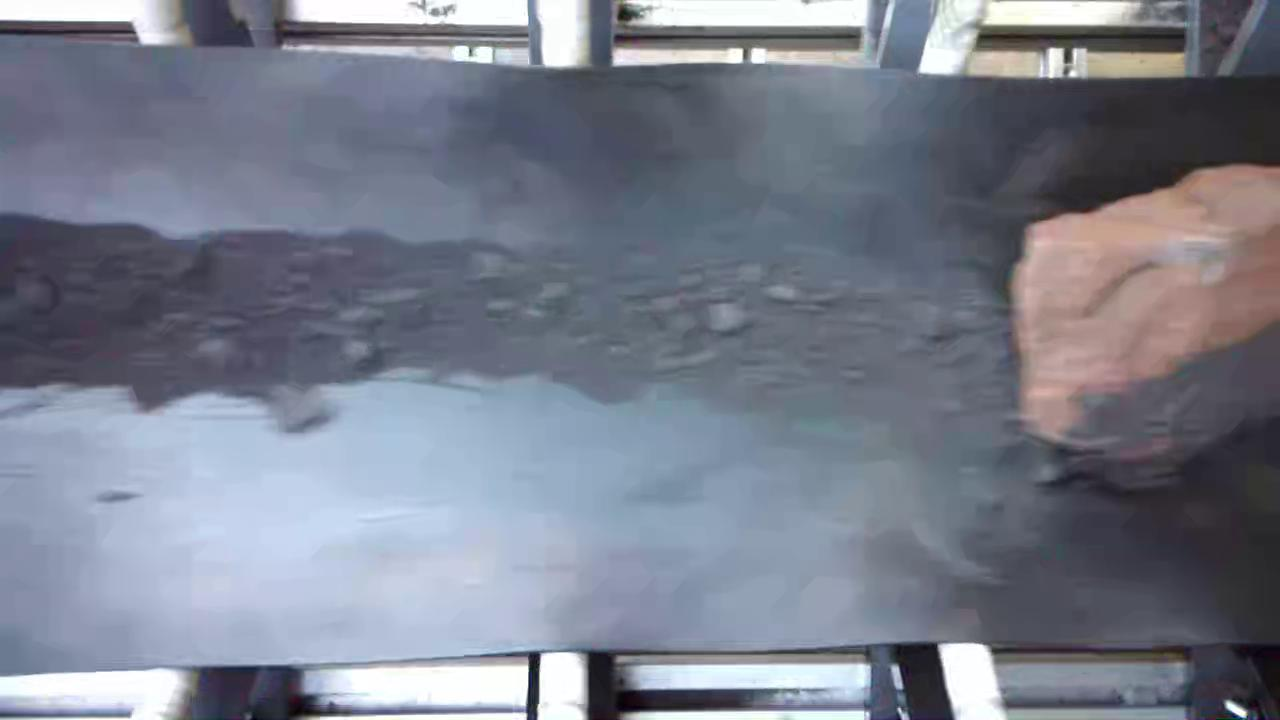conveyor: (6, 84, 1280, 635)
